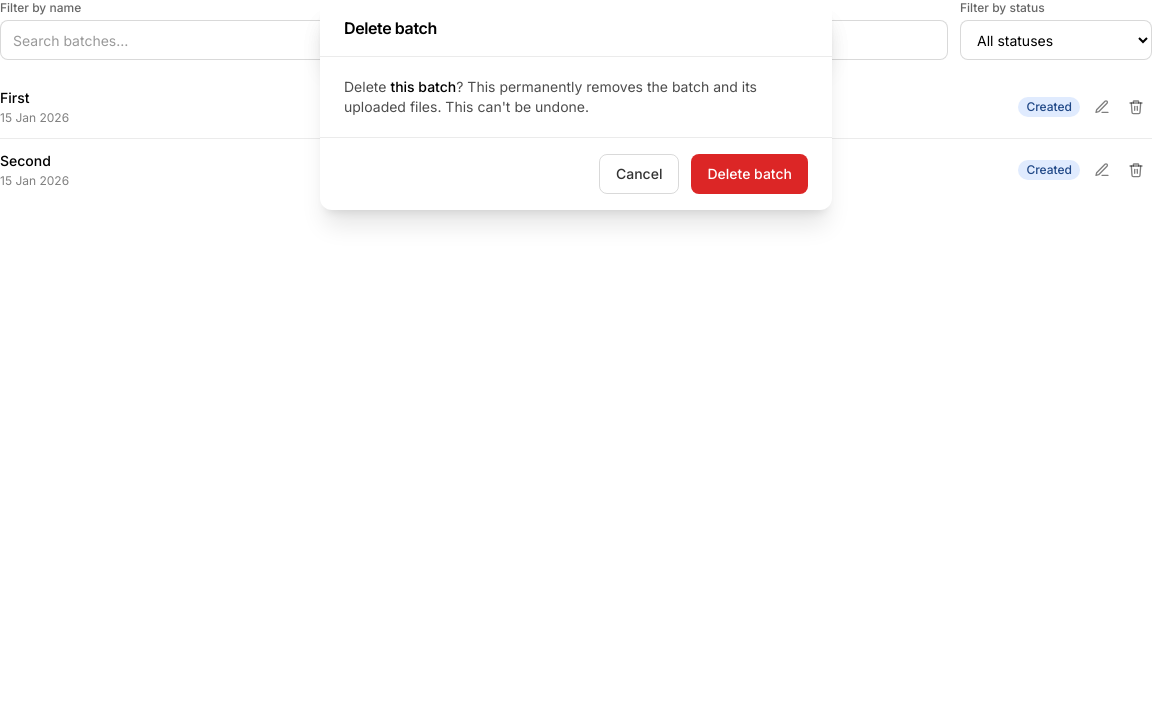
Test: BatchesList › row actions › targets the correct batch when multiple rows exist
The image size is (1152, 720).
Click the button named "Edit Second": (1102, 170) [1086,154,1118,186]
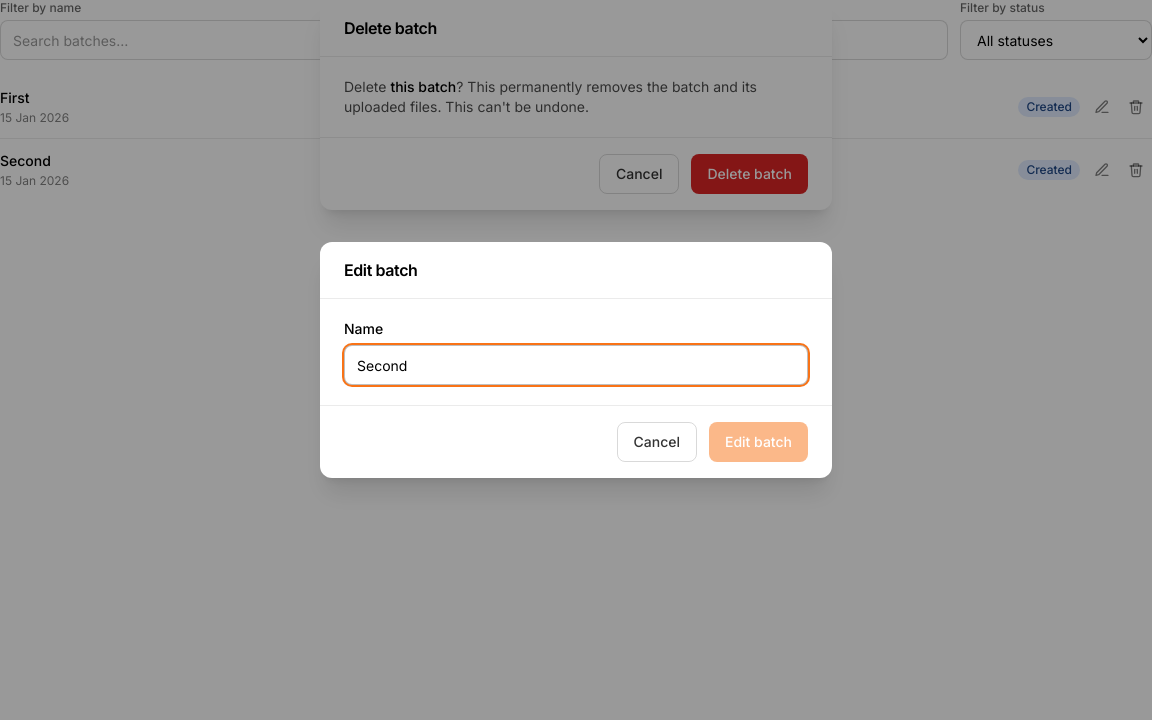
Expected: the field labelled "Name" holds "Second", [344,345,808,385]
